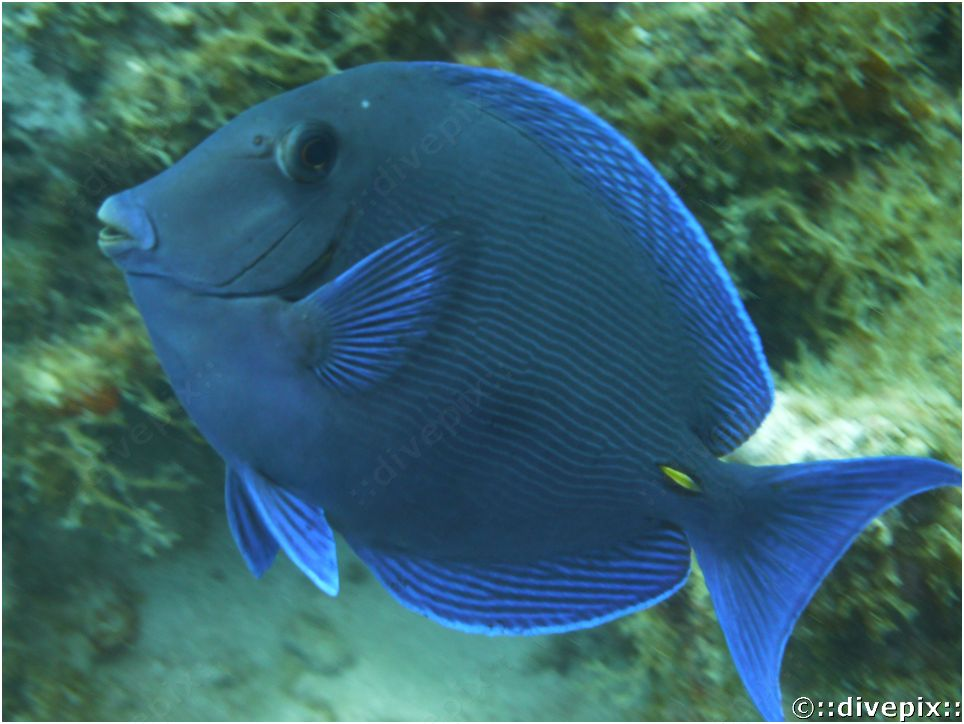Acanthurus_coeruleus: (93, 56, 962, 724)
